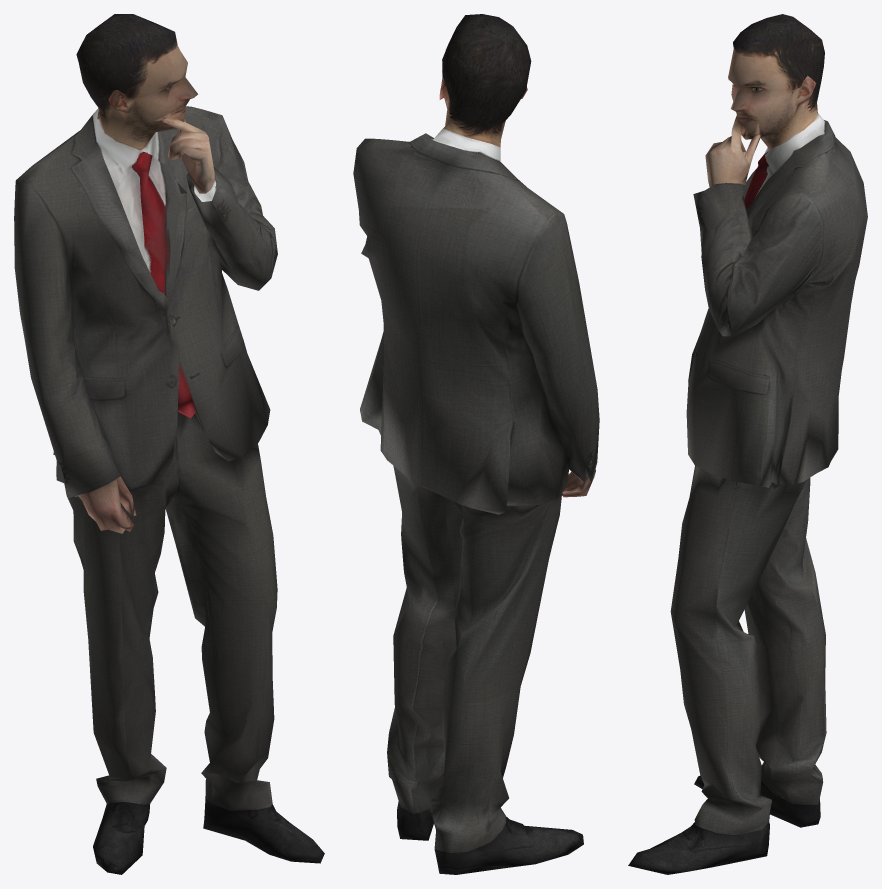
Rendered from man2.obj.
3 renders of one model, left to right at view 1: azimuth 30°, elevation 25°; view 2: azimuth 150°, elevation 25°; view 3: azimuth 270°, elevation 25°, orthographic. The views are drawn at different scales.
Size of the model in its own units: 54.1 by 185 by 50.59.
Materials: 1 (1 with a texture image).
